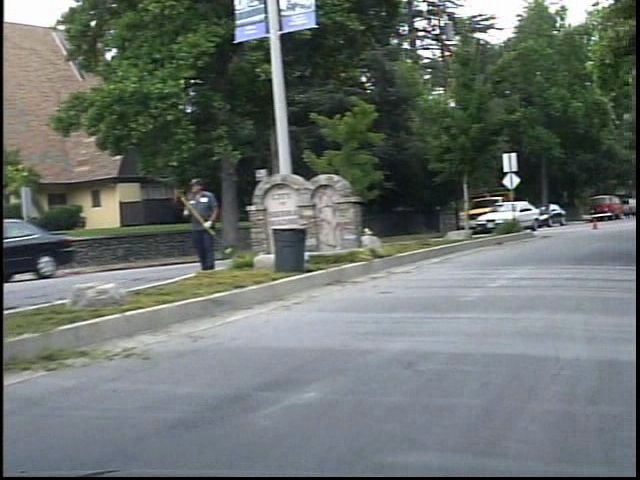person: (193, 172, 234, 274)
